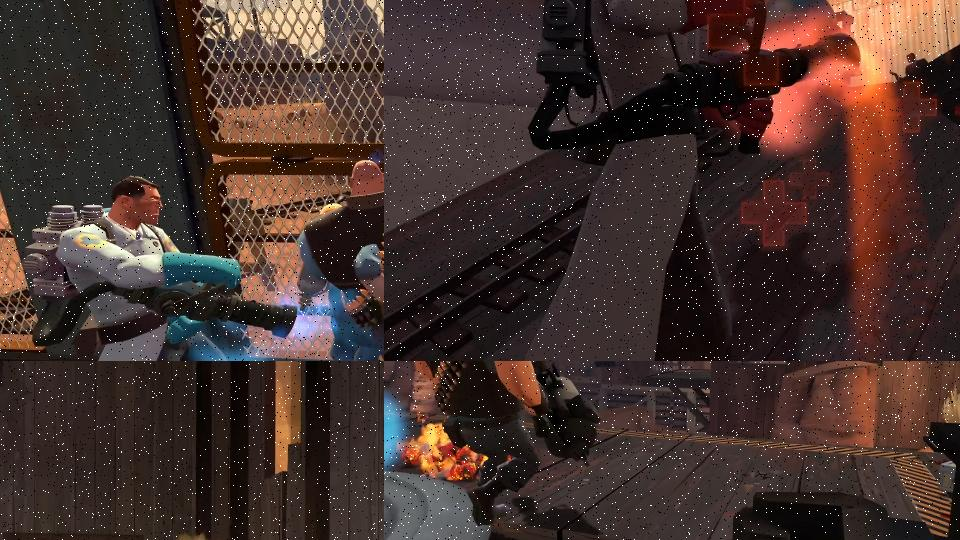Enemy: (530, 0, 870, 361), (23, 175, 297, 361), (407, 361, 605, 532), (294, 159, 384, 361)
